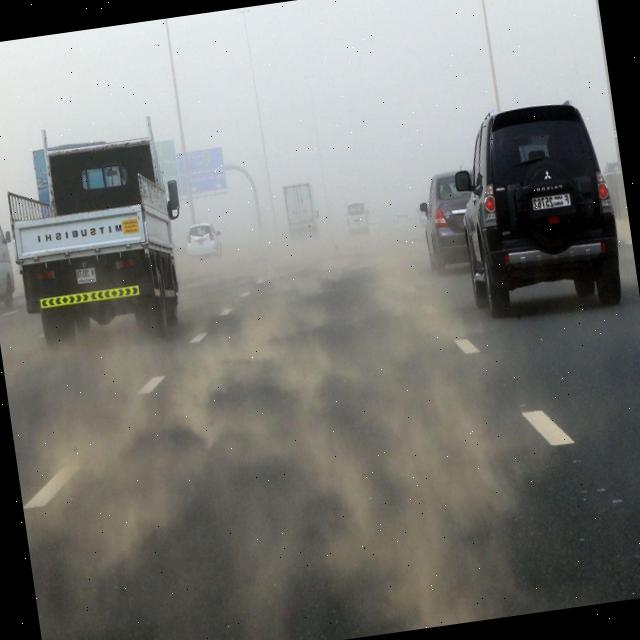bus: (2, 121, 194, 351), (281, 178, 325, 250)
car: (450, 95, 628, 322), (418, 168, 483, 273), (0, 210, 18, 309), (183, 222, 224, 263), (344, 197, 372, 235), (392, 210, 414, 230)
